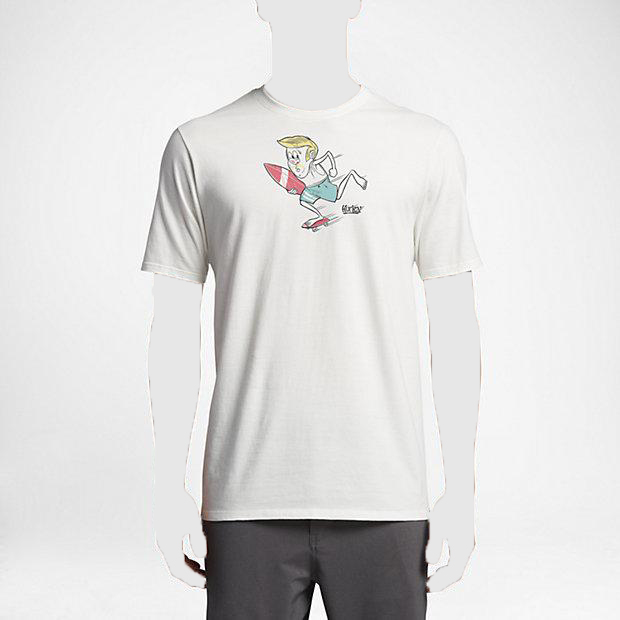teeshirt: (138, 80, 483, 527)
